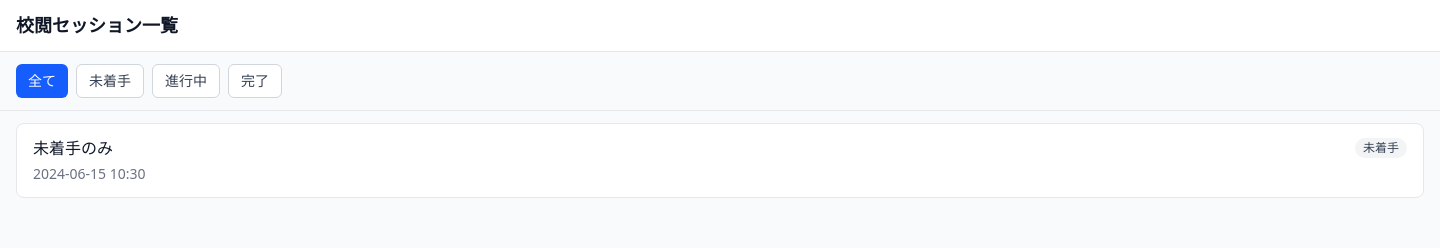
Test: SessionListPage › filtering (uncontrolled fallback — assigned/joinable) › shows empty message when local filter matches no sessions
Click the tab "完了" at [255, 81], box [228,64,282,98]
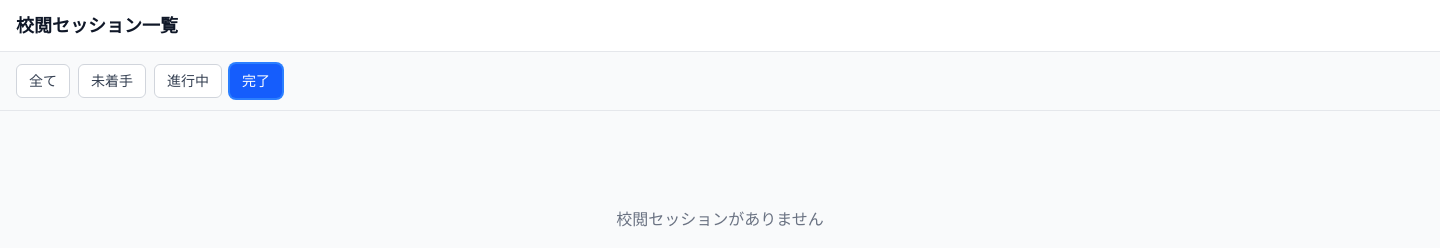
Expected: the text "校閲セッションがありません" is shown, [616,207,824,231]
